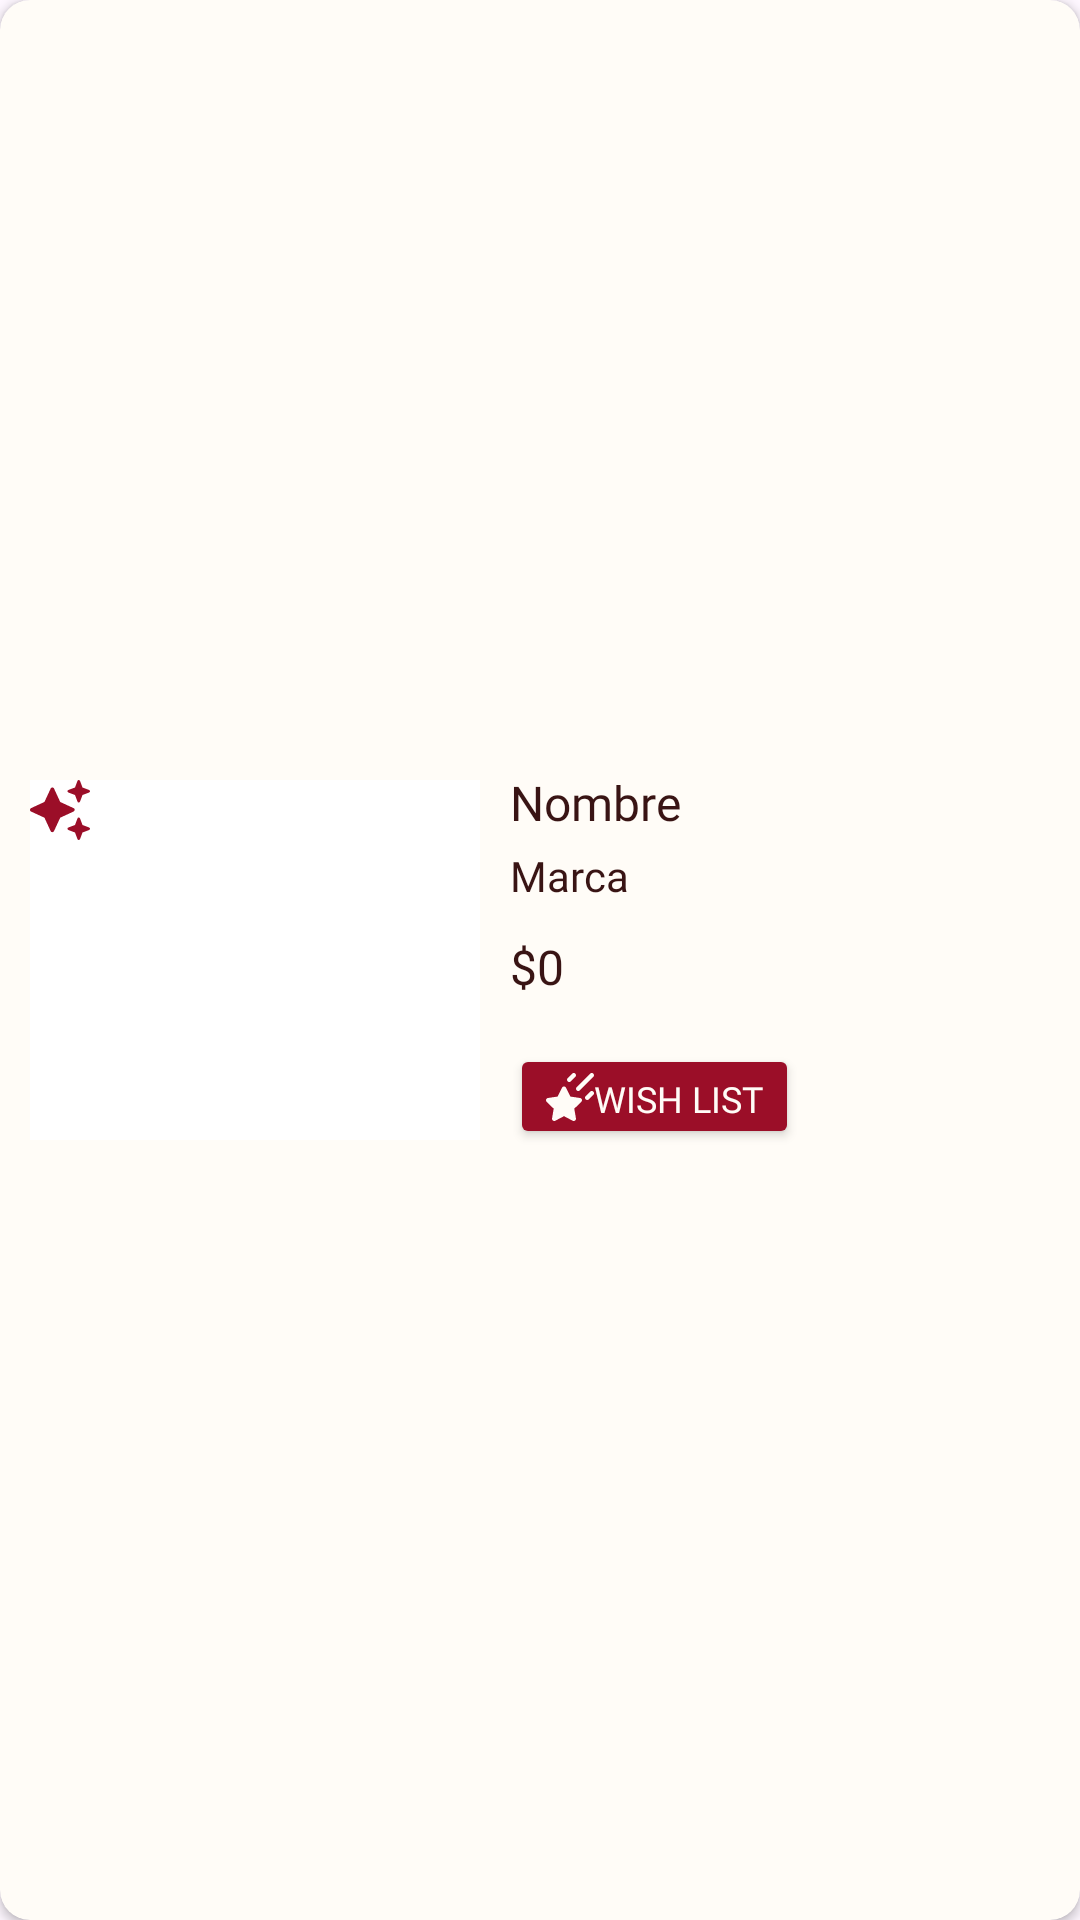

Point at icon controls on the screen. Image size 1080px x 1920px, points as (x=x, y=y).
sparkles: (x=60, y=810)
